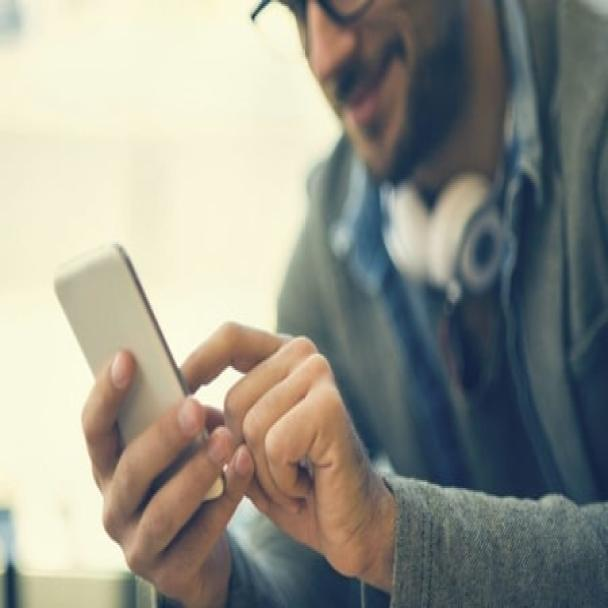Handphone: (51, 242, 227, 524)
